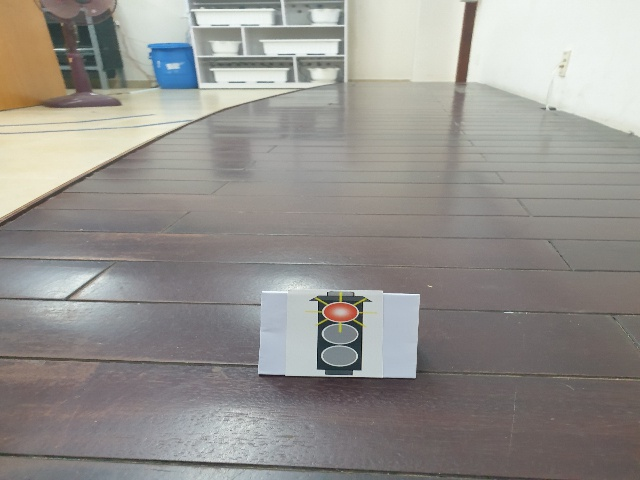Red Light: (295, 288, 383, 378)
